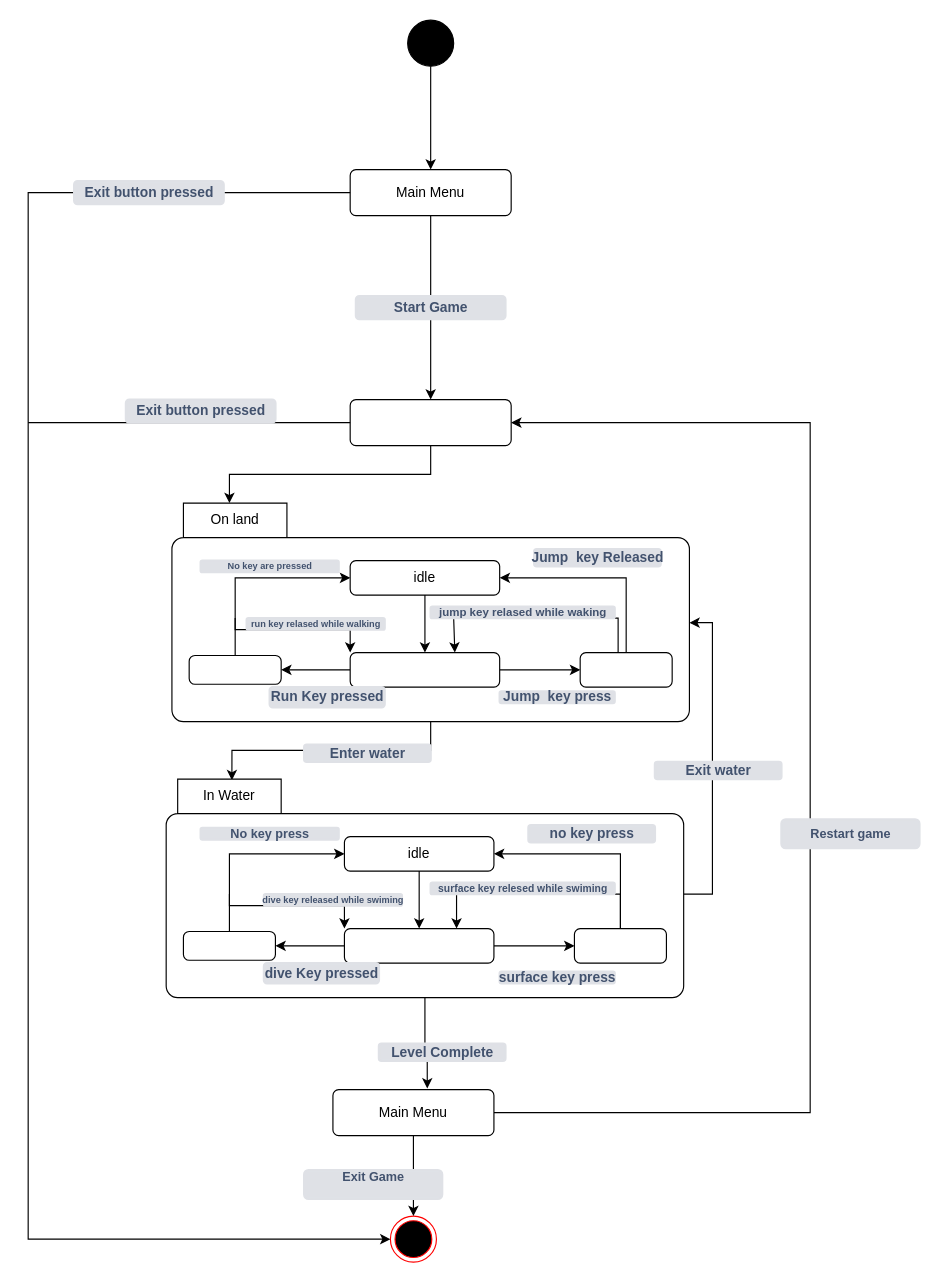
Image size: 941x1282. Some labels were removed from this diagram. Here are the shapes that lost their labels. From the top down, the centre of each, then its label:
[430,422]: GamePlay
[234,669]: Run
[424,669]: walk
[625,669]: Jump
[228,945]: dive
[418,945]: swim
[619,945]: surface
